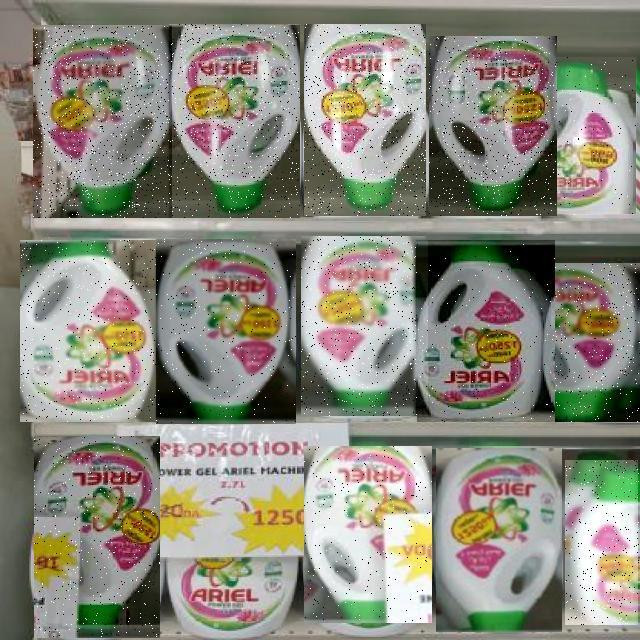Detergent: (33, 25, 172, 218), (156, 239, 296, 424), (34, 437, 160, 639), (169, 24, 300, 218), (417, 240, 555, 422), (20, 240, 157, 422), (305, 24, 427, 216), (436, 448, 562, 632), (429, 36, 557, 216), (302, 236, 428, 416), (305, 446, 433, 623), (555, 263, 640, 422), (558, 58, 640, 218), (566, 460, 640, 625)
